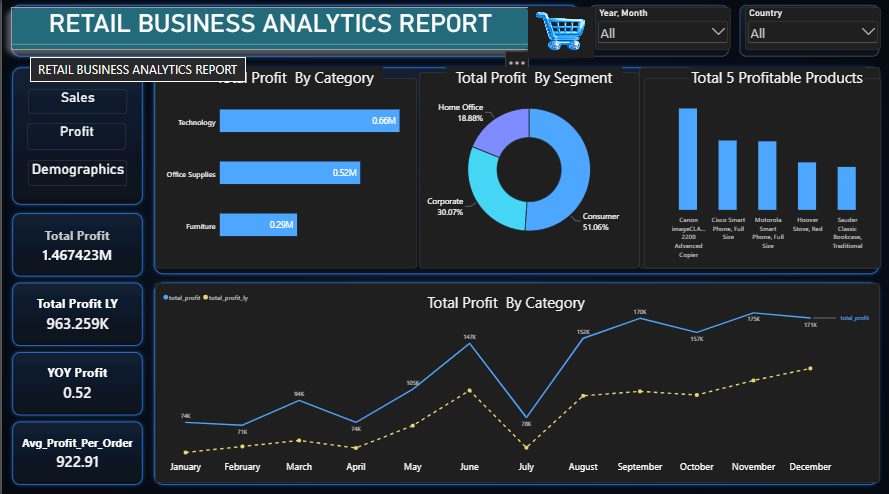

What the dashboard file says about the page in this screenshot:
{"tool":"powerbi","page":{"name":"Page 2","canvas":[1920,1080],"ordinal":1},"visuals":[{"type":"textbox","title":"RETAIL BUSINESS ANALYTICS REPORT","box":[19.5,19.5,1120,93],"z":0},{"type":"slicer","fields":{"Values":["Calendar.Year","Calendar.Month"]},"box":[1280,20,292.5,92.5],"z":1000},{"type":"slicer","fields":{"Values":["location_table.Country"]},"box":[1605,20,292.5,92.5],"z":2000},{"type":"clusteredBarChart","fields":{"Category":["product_table.Category"],"Y":["sales_table.total_profit"]},"box":[330.8,173,566.5,410.8],"z":3000},{"type":"donutChart","fields":{"Series":["customer_table.Segment"],"Y":["sales_table.total_profit"]},"box":[901.6,160,475.7,423.8],"z":4000},{"type":"lineChart","fields":{"Category":["Calendar.Date.Variation.Date Hierarchy.Month"],"Y":["sales_table.total_profit","sales_table.total_profit_ly"]},"box":[330.5,615.6,1566,432],"z":5000},{"type":"cardVisual","fields":{"Data":["sales_table.total_profit"]},"box":[18.8,461.2,286.9,144.8],"z":6000},{"type":"cardVisual","fields":{"Data":["sales_table.total_profit_ly"]},"box":[19.4,607,287.3,151.2],"z":7000},{"type":"cardVisual","fields":{"Data":["sales_table.YOY_PROFIT"]},"box":[19.4,760.3,287.3,142.6],"z":8000},{"type":"cardVisual","fields":{"Data":["sales_table.Avg_Profit_Per_Order"]},"box":[19.4,905,287.3,157.7],"z":9000},{"type":"textbox","box":[442.5,150,380,47.5],"z":10000},{"type":"textbox","box":[960,150,380,47.5],"z":11000},{"type":"textbox","box":[898.3,635.5,380,47.5],"z":12000},{"type":"image","box":[1135.1,19.5,142.7,110.3],"z":13000},{"type":"clusteredColumnChart","fields":{"Category":["product_table.Product Name"],"Y":["sales_table.total_sales"]},"box":[1376.9,149.4,521.4,434.5],"z":14000},{"type":"clusteredColumnChart","fields":{"Category":["product_table.Product Name"],"Y":["sales_table.total_profit"]},"box":[1385.9,173,512.4,410.8],"z":15000},{"type":"textbox","box":[1483.2,149.2,380,47.5],"z":16000},{"type":"actionButton","title":"Sales","box":[56.2,196.6,213.8,54],"z":17000},{"type":"actionButton","title":"Profit","box":[54,270,213.8,58.3],"z":18000},{"type":"actionButton","title":"Demographics","box":[56.2,349.9,213.8,56.2],"z":19000}]}

Visuals, with their boxes in screenshot pixels (x1, y1, x2, y2), scaled from the page's 1920x1080 canvas onto the 889x494 screenshot:
"RETAIL BUSINESS ANALYTICS REPORT" textbox: {"x1": 9, "y1": 9, "x2": 528, "y2": 51}
slicer - Calendar.Year x Calendar.Month: {"x1": 593, "y1": 9, "x2": 728, "y2": 51}
slicer - location_table.Country: {"x1": 743, "y1": 9, "x2": 879, "y2": 51}
clusteredBarChart - product_table.Category x sales_table.total_profit: {"x1": 153, "y1": 79, "x2": 415, "y2": 267}
donutChart - customer_table.Segment x sales_table.total_profit: {"x1": 417, "y1": 73, "x2": 638, "y2": 267}
lineChart - Calendar.Date.Variation.Date Hierarchy.Month x sales_table.total_profit: {"x1": 153, "y1": 282, "x2": 878, "y2": 479}
cardVisual - sales_table.total_profit: {"x1": 9, "y1": 211, "x2": 142, "y2": 277}
cardVisual - sales_table.total_profit_ly: {"x1": 9, "y1": 278, "x2": 142, "y2": 347}
cardVisual - sales_table.YOY_PROFIT: {"x1": 9, "y1": 348, "x2": 142, "y2": 413}
cardVisual - sales_table.Avg_Profit_Per_Order: {"x1": 9, "y1": 414, "x2": 142, "y2": 486}
textbox: {"x1": 205, "y1": 69, "x2": 381, "y2": 90}
textbox: {"x1": 444, "y1": 69, "x2": 620, "y2": 90}
textbox: {"x1": 416, "y1": 291, "x2": 592, "y2": 312}
image: {"x1": 526, "y1": 9, "x2": 592, "y2": 59}
clusteredColumnChart - product_table.Product Name x sales_table.total_sales: {"x1": 638, "y1": 68, "x2": 879, "y2": 267}
clusteredColumnChart - product_table.Product Name x sales_table.total_profit: {"x1": 642, "y1": 79, "x2": 879, "y2": 267}
textbox: {"x1": 687, "y1": 68, "x2": 863, "y2": 90}
"Sales" actionButton: {"x1": 26, "y1": 90, "x2": 125, "y2": 115}
"Profit" actionButton: {"x1": 25, "y1": 124, "x2": 124, "y2": 150}
"Demographics" actionButton: {"x1": 26, "y1": 160, "x2": 125, "y2": 186}
